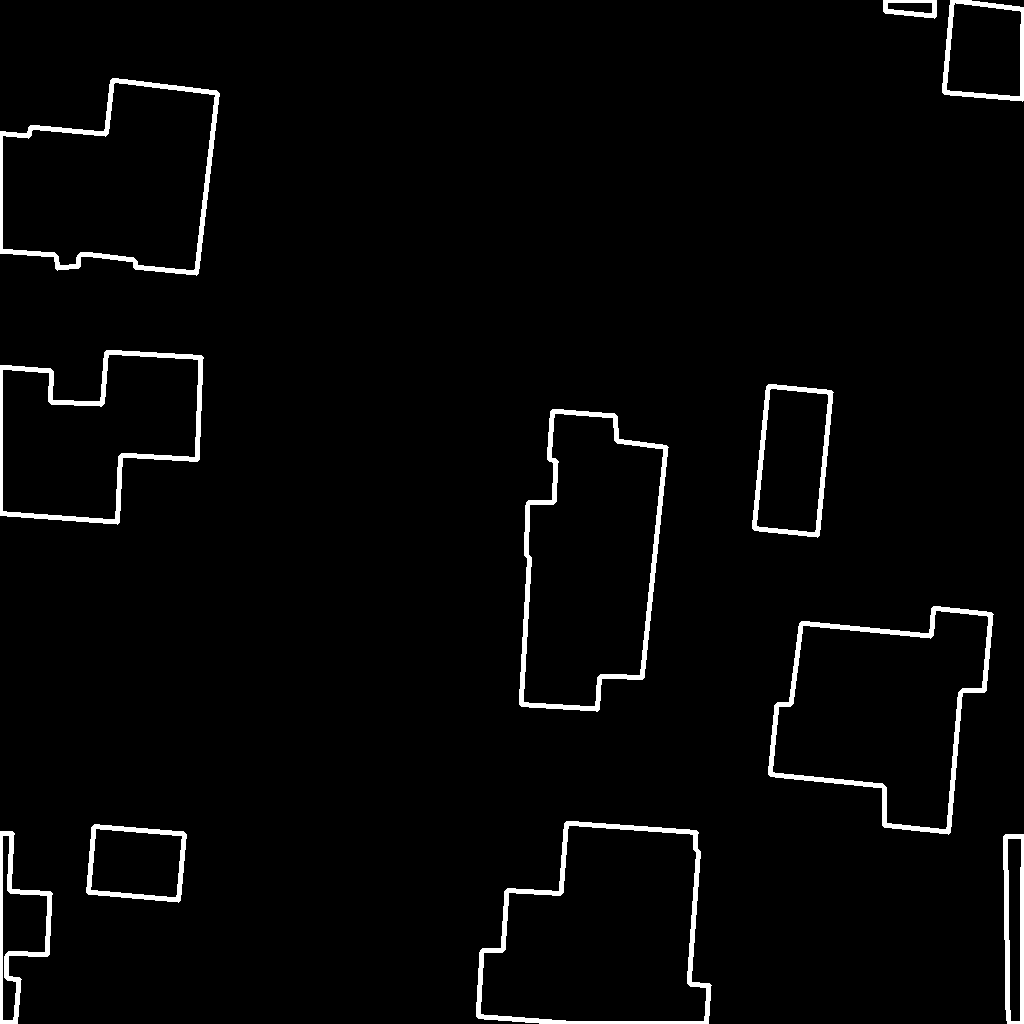building: (770, 608, 992, 833), (478, 823, 710, 1024), (521, 411, 667, 710), (0, 80, 219, 274), (0, 352, 202, 523), (754, 386, 832, 536), (0, 833, 51, 1024), (944, 0, 1024, 100), (88, 826, 186, 901), (1005, 836, 1024, 1024), (885, 0, 936, 17)
